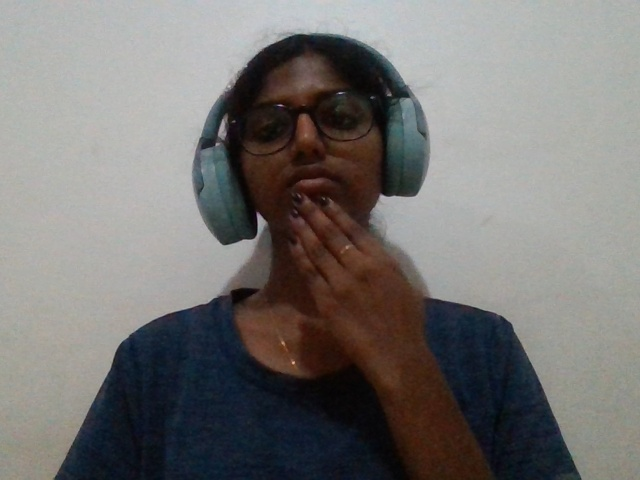Thanks: (254, 163, 462, 427)
